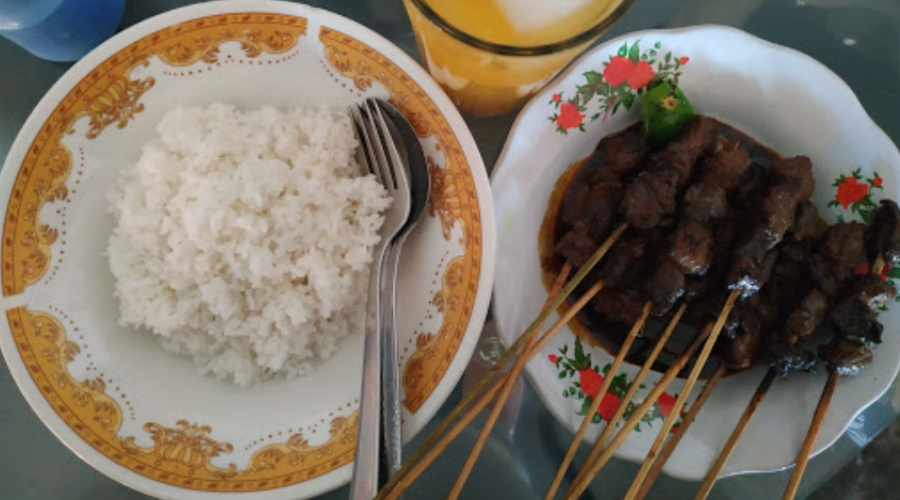sate_madura: (517, 134, 900, 500)
